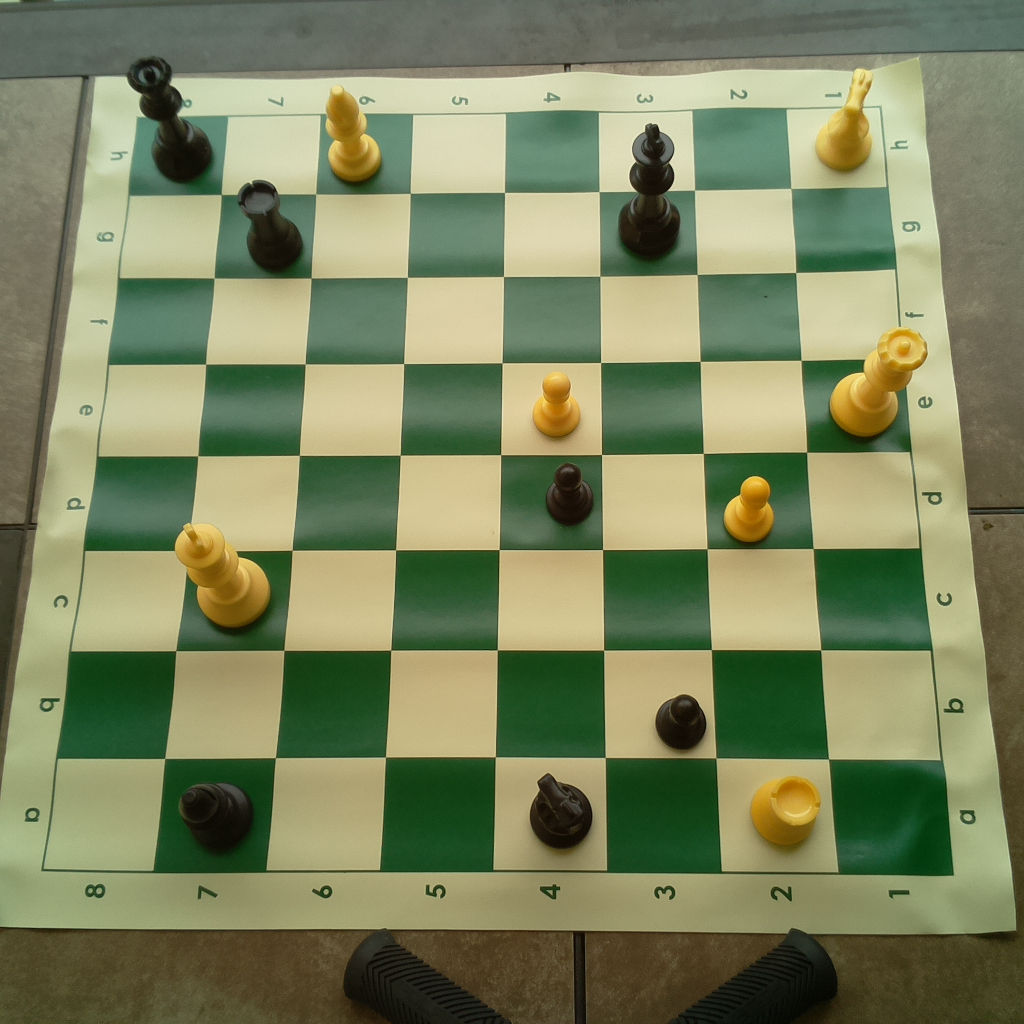black_bishop: (177, 778, 257, 852)
black_king: (612, 122, 688, 262)
black_knight: (525, 765, 596, 851)
black_pawn: (651, 686, 711, 753), (541, 461, 599, 527)
black_queen: (119, 53, 221, 183)
black_rook: (227, 174, 307, 278)
file_a: (40, 760, 953, 874)
file_b: (54, 651, 942, 762)
file_c: (68, 551, 934, 649)
file_d: (86, 451, 918, 551)
file_e: (96, 357, 912, 451)
file_f: (106, 267, 903, 361)
file_g: (119, 186, 894, 280)
file_h: (128, 106, 890, 190)
outline: (42, 106, 955, 873)
rank_1: (786, 106, 957, 874)
rank_2: (690, 109, 841, 870)
rank_3: (598, 110, 724, 874)
rank_4: (490, 110, 608, 871)
rank_5: (379, 113, 507, 873)
rank_6: (264, 113, 414, 875)
rank_7: (153, 117, 320, 871)
rank_8: (42, 118, 229, 871)
white_bishop: (319, 82, 385, 184)
white_king: (171, 515, 275, 630)
white_knight: (810, 64, 880, 175)
white_pawn: (721, 471, 776, 547), (532, 370, 584, 439)
white_queen: (820, 319, 931, 444)
white_rook: (746, 762, 827, 851)
